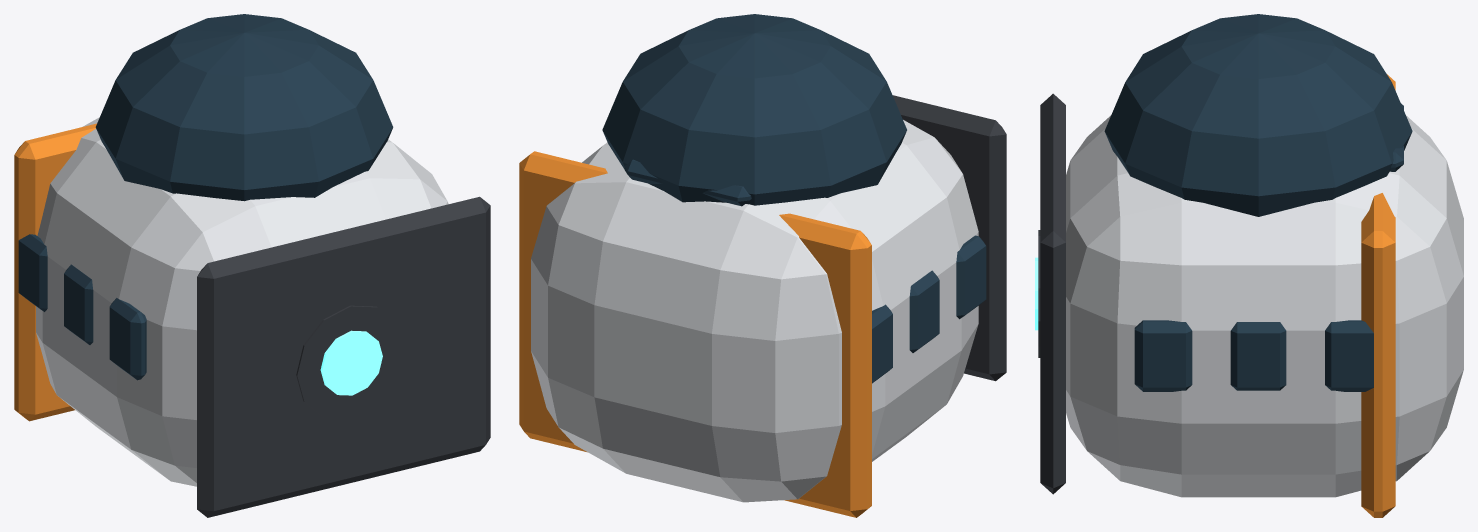
File: recreation_room.glb
3 views of the same model, side by side, from view 1: azimuth 30°, elevation 25°; view 2: azimuth 150°, elevation 25°; view 3: azimuth 270°, elevation 25° (orthographic). The views are drawn at different scales.
Visible parts, largest first — view 1: recreation_room; view 2: recreation_room; view 3: recreation_room.
Part boxes in pixels (left/top/right/bottom): recreation_room: left=14, top=14, right=490, bottom=517; recreation_room: left=519, top=14, right=1006, bottom=517; recreation_room: left=1035, top=14, right=1463, bottom=517.
Bounding box in the file's own units: 0.95 × 1.09 × 1.
